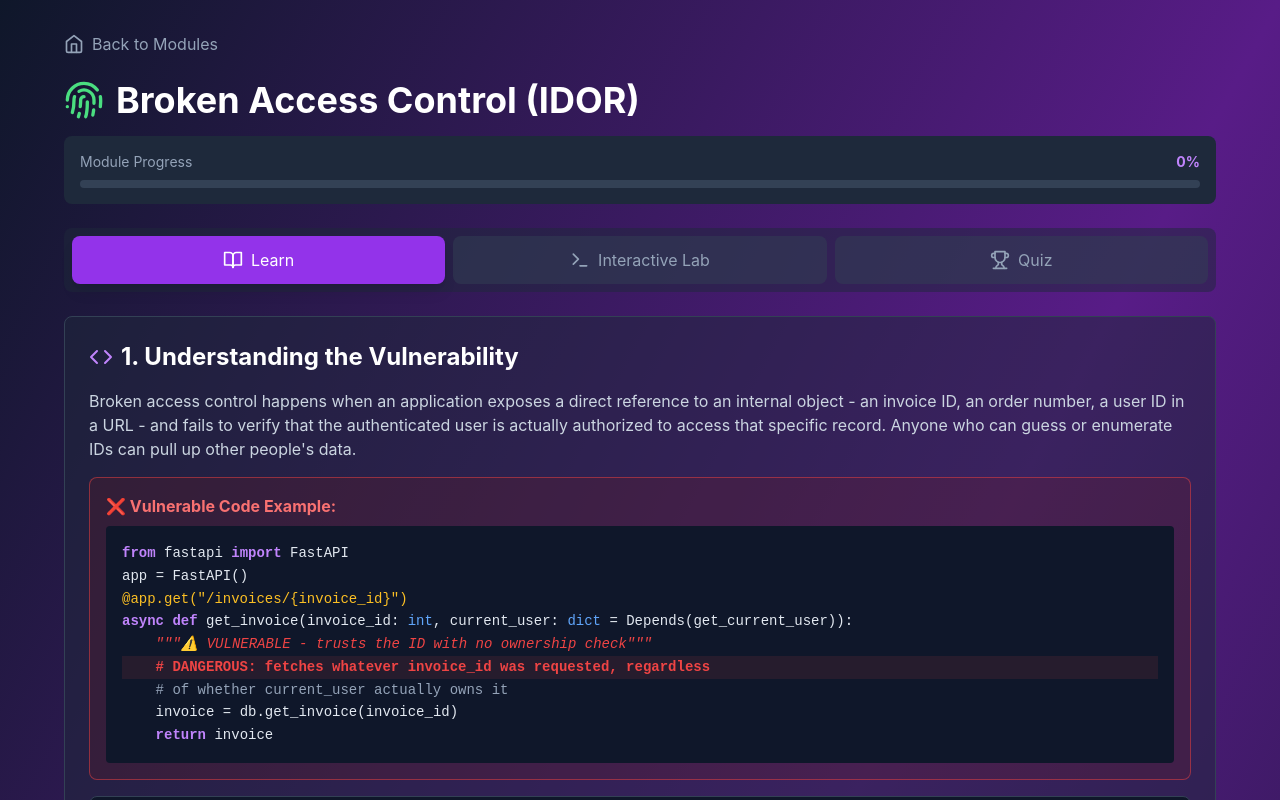
Test case: BrokenAccessControlModule IDOR lab › allows access to an owned invoice
Click the button "Interactive Lab": coordinates (640, 260) [453,236,827,284]
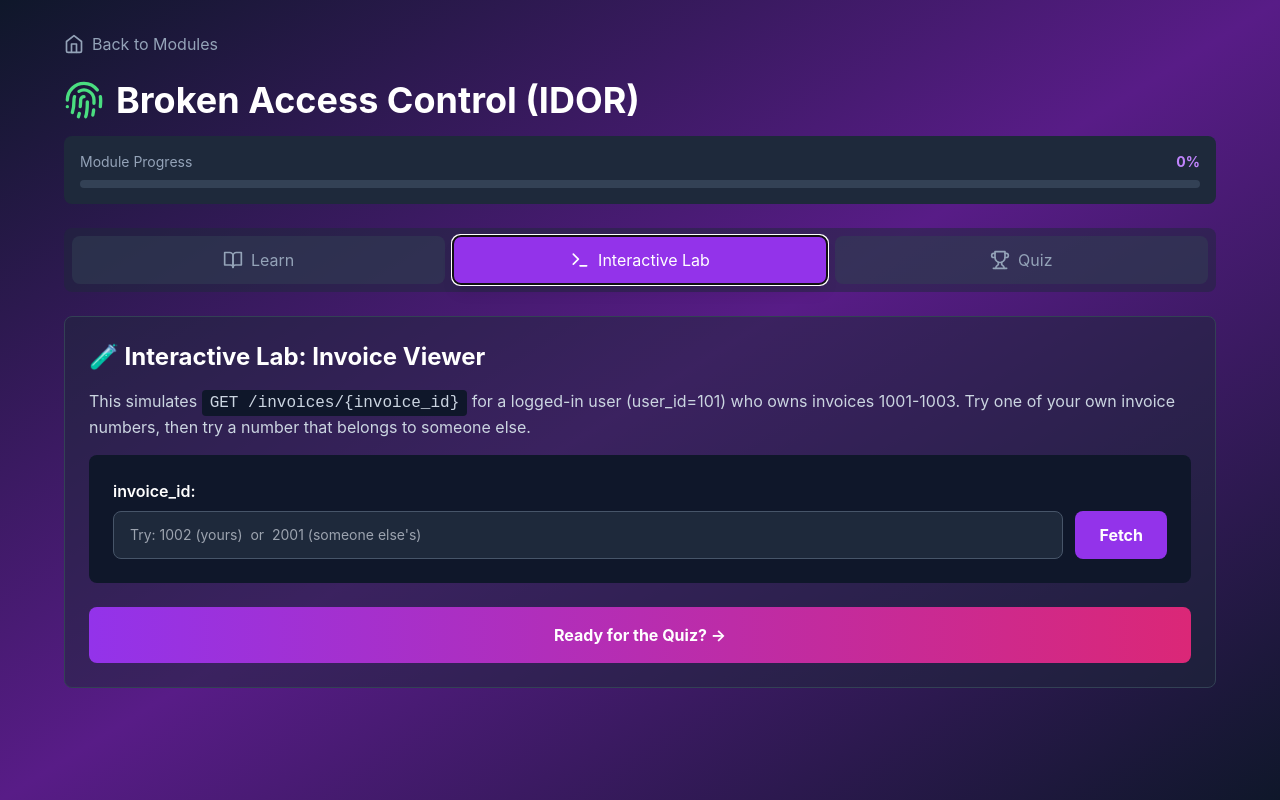
In the field with placeholder "Try: 1002 (yours) or 2001 (someone else's)": coordinates (588, 535) [113,511,1064,559], type "1002"
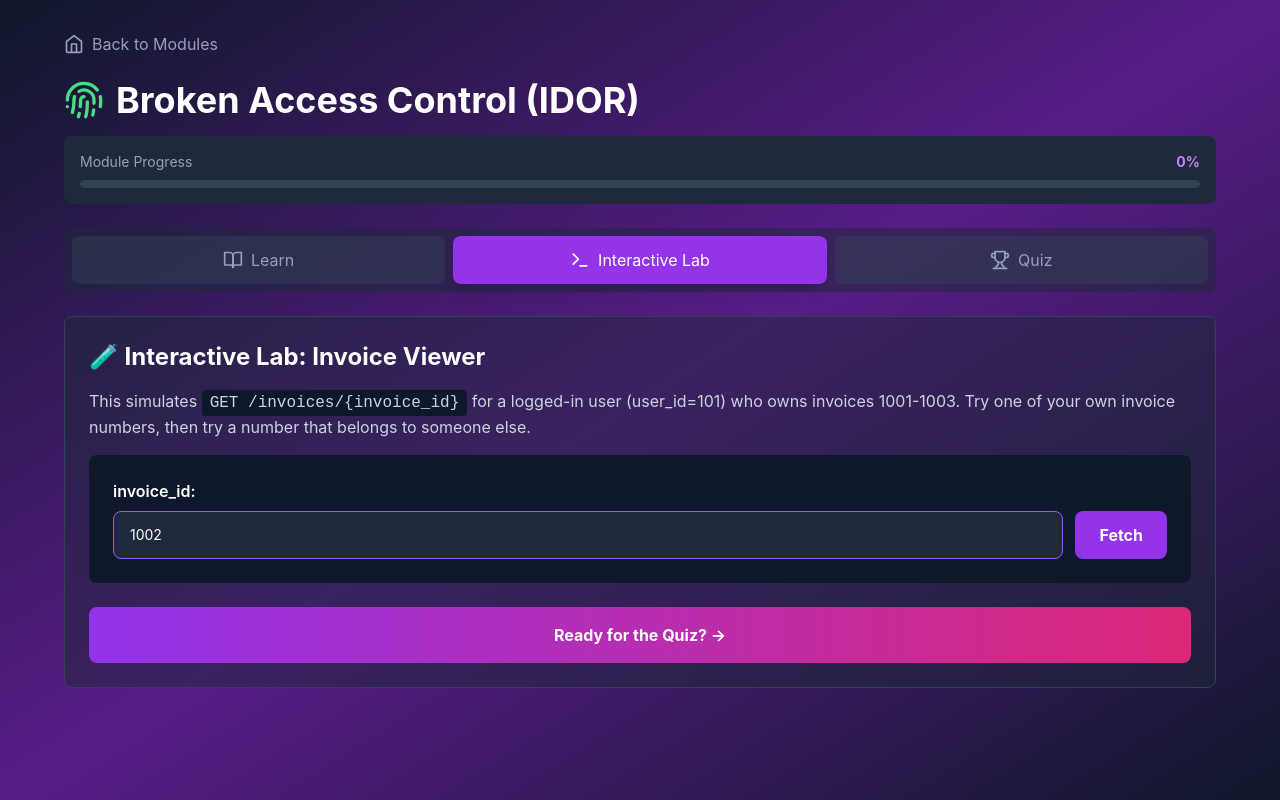
Click the button "Fetch": coordinates (1121, 535) [1076,511,1167,559]
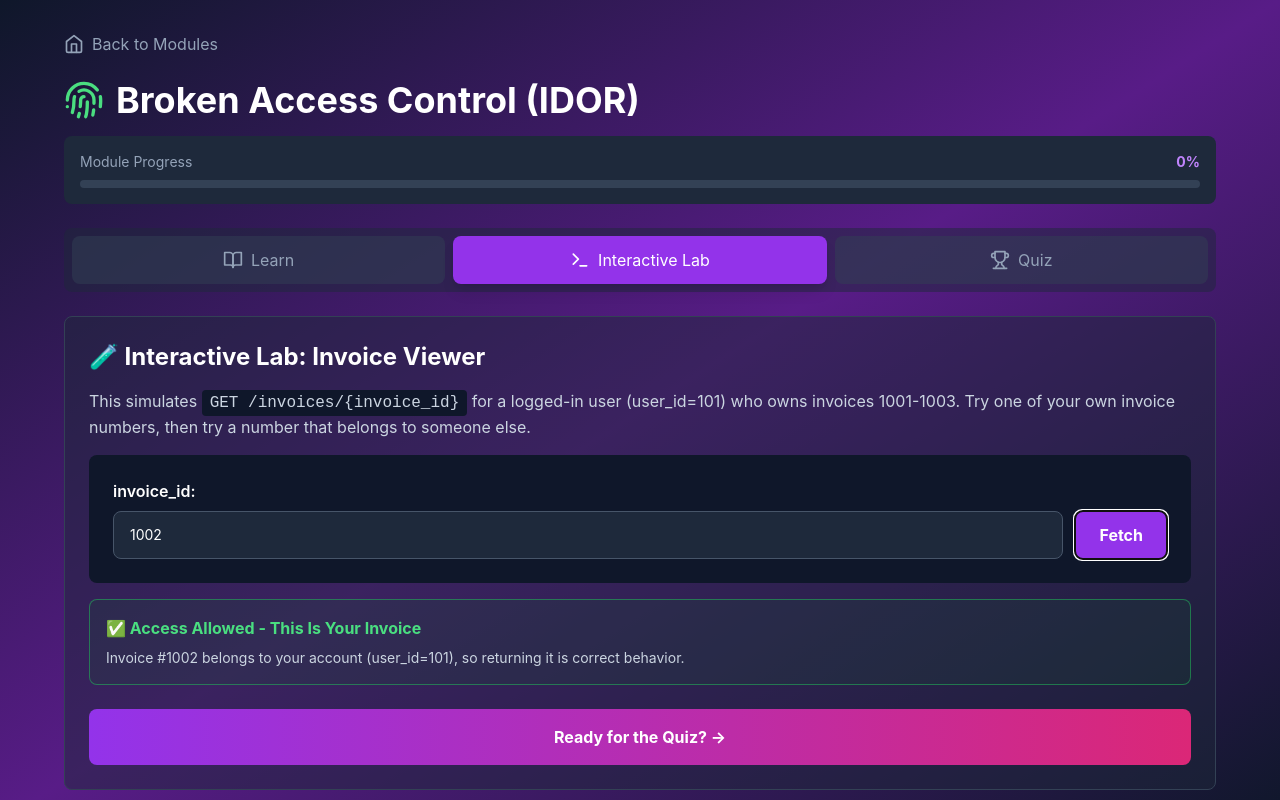
Expected: the text "✅ Access Allowed - This Is Your Invoice" is shown, [106,618,421,638]
